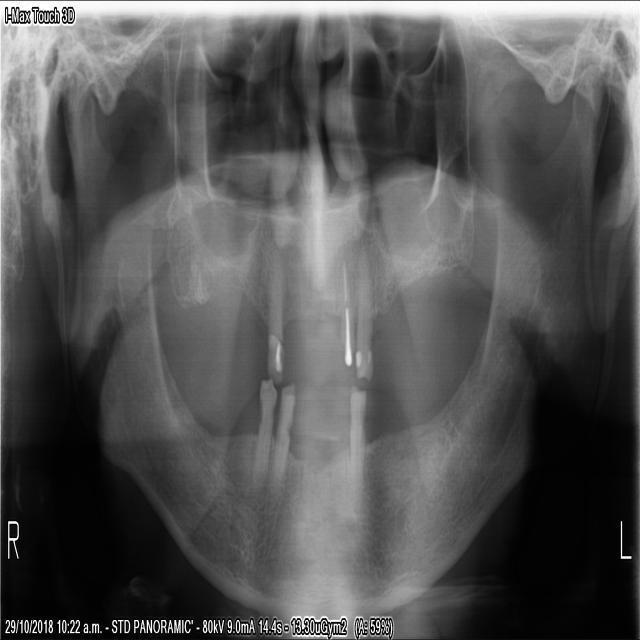LCU: (353, 246, 372, 383)
LID: (346, 382, 368, 498)
LIU: (337, 261, 352, 373)
RCD: (251, 372, 278, 475)
RID: (269, 379, 297, 492)
RIU: (265, 258, 284, 384)
